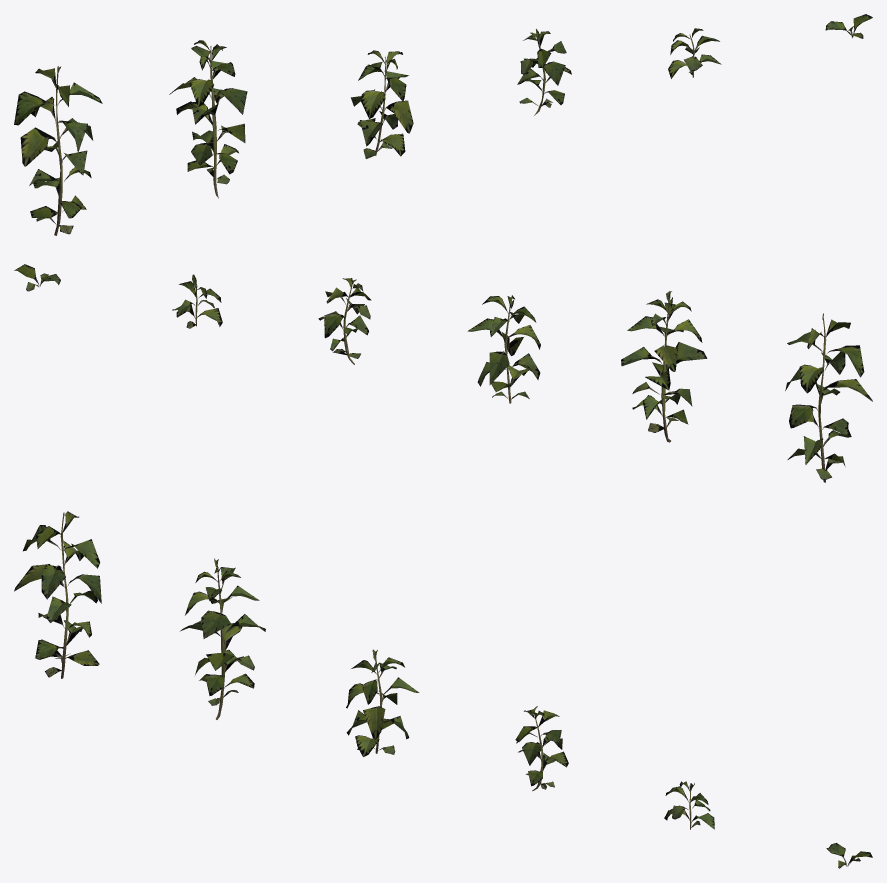
Rendered from nettle_plant_1k_lo.glb.
3 renders of one model, top to bottom at view 1: azimuth 30°, elevation 25°; view 2: azimuth 150°, elevation 25°; view 3: azimuth 330°, elevation 25°, orthographic.
Visible parts, largest first — view 1: nettle_plant_tall_a_LOD0, nettle_plant_tall_b_LOD0, nettle_plant_medium_a_LOD0, nettle_plant_medium_b_LOD0, nettle_plant_small_a_LOD0; view 2: nettle_plant_tall_a_LOD0, nettle_plant_tall_b_LOD0, nettle_plant_medium_a_LOD0, nettle_plant_medium_b_LOD0, nettle_plant_small_a_LOD0, nettle_plant_small_b_LOD0; view 3: nettle_plant_tall_a_LOD0, nettle_plant_tall_b_LOD0, nettle_plant_medium_a_LOD0, nettle_plant_medium_b_LOD0, nettle_plant_small_a_LOD0.
Part boxes in pixels (x1=…): nettle_plant_tall_a_LOD0: x1=14, y1=66, x2=102, y2=235; nettle_plant_tall_b_LOD0: x1=169, y1=40, x2=247, y2=198; nettle_plant_medium_a_LOD0: x1=351, y1=50, x2=413, y2=158; nettle_plant_medium_b_LOD0: x1=517, y1=29, x2=571, y2=115; nettle_plant_small_a_LOD0: x1=668, y1=28, x2=721, y2=78; nettle_plant_tall_a_LOD0: x1=785, y1=313, x2=872, y2=482; nettle_plant_tall_b_LOD0: x1=621, y1=291, x2=707, y2=442; nettle_plant_medium_a_LOD0: x1=467, y1=295, x2=540, y2=403; nettle_plant_medium_b_LOD0: x1=318, y1=278, x2=371, y2=364; nettle_plant_small_a_LOD0: x1=172, y1=274, x2=222, y2=328; nettle_plant_small_b_LOD0: x1=14, y1=264, x2=60, y2=291; nettle_plant_tall_a_LOD0: x1=14, y1=511, x2=101, y2=678; nettle_plant_tall_b_LOD0: x1=180, y1=558, x2=265, y2=719; nettle_plant_medium_a_LOD0: x1=346, y1=649, x2=419, y2=756; nettle_plant_medium_b_LOD0: x1=515, y1=706, x2=568, y2=791; nettle_plant_small_a_LOD0: x1=664, y1=781, x2=714, y2=829.
Size of the model in its own units: 1.08 by 0.205 by 0.0947.
1 material, 1 textured.
